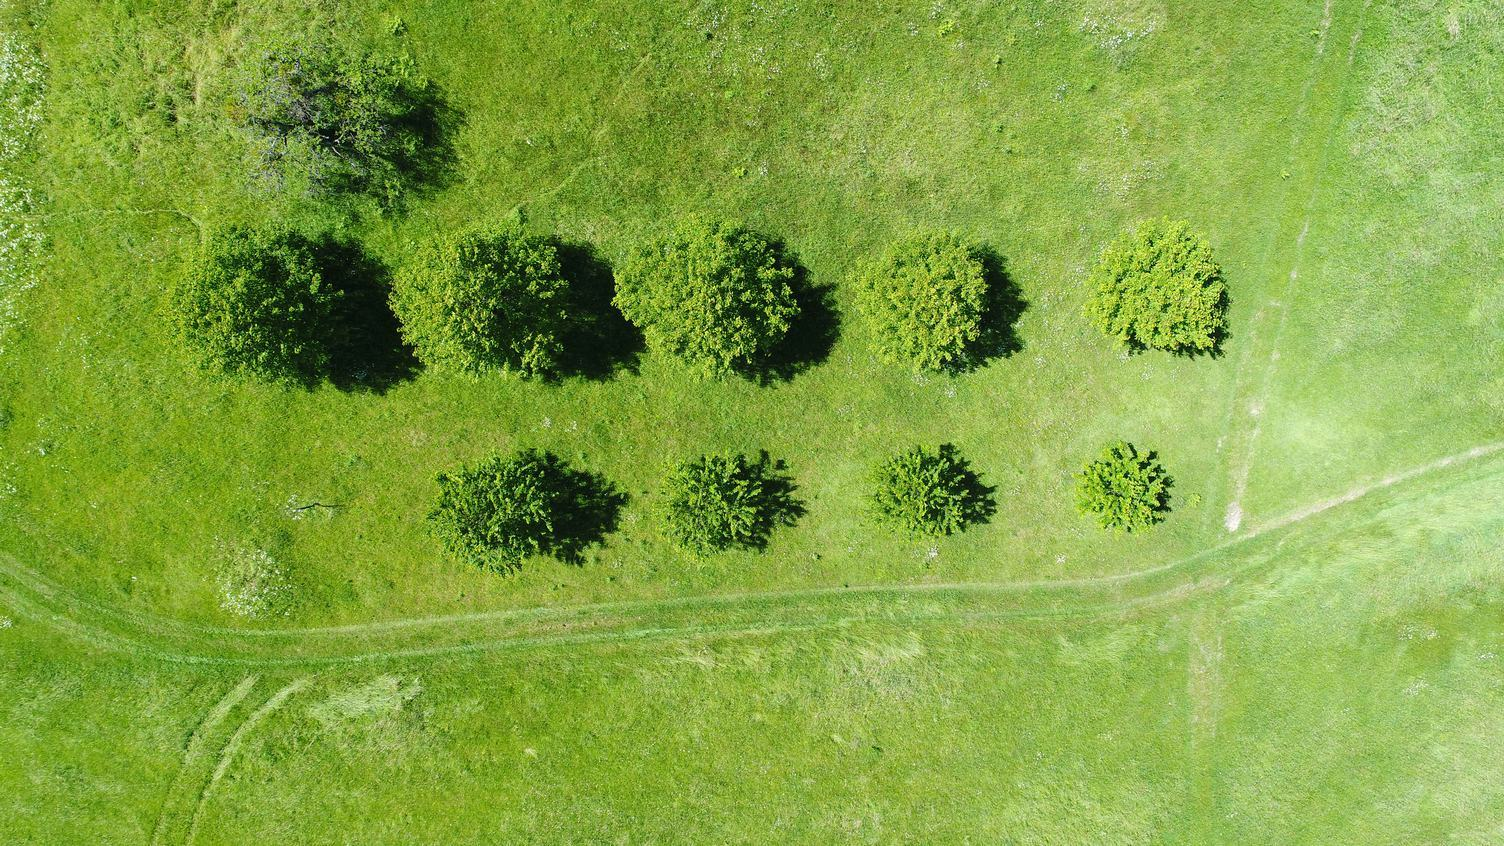TREE: (613, 215, 803, 385), (390, 223, 574, 381), (178, 220, 344, 389), (246, 49, 425, 201), (855, 233, 997, 376), (1088, 217, 1229, 356), (430, 445, 562, 573), (661, 450, 777, 553), (869, 444, 990, 538), (1076, 439, 1172, 534)
